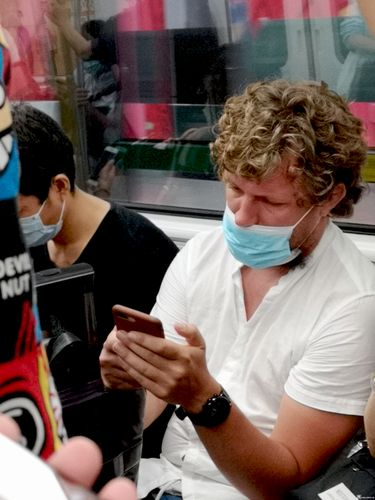mask: (220, 142, 328, 274)
